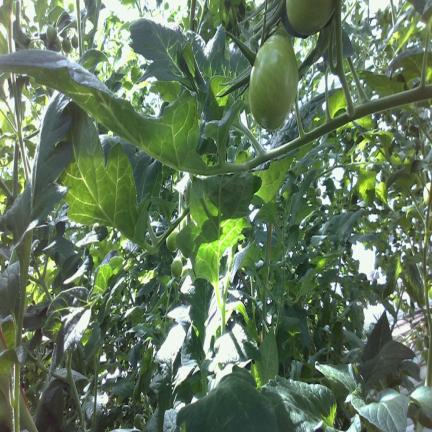6kp_petiole: (52, 353, 80, 404)
MainStem: (64, 350, 83, 425), (264, 222, 272, 263)
tomato: (249, 34, 298, 130), (286, 0, 334, 35), (166, 229, 178, 251), (171, 257, 182, 277), (46, 24, 57, 43), (423, 182, 431, 205), (62, 37, 71, 53), (181, 265, 189, 277), (71, 35, 78, 48), (346, 132, 352, 143), (315, 188, 321, 196), (316, 197, 322, 205)
